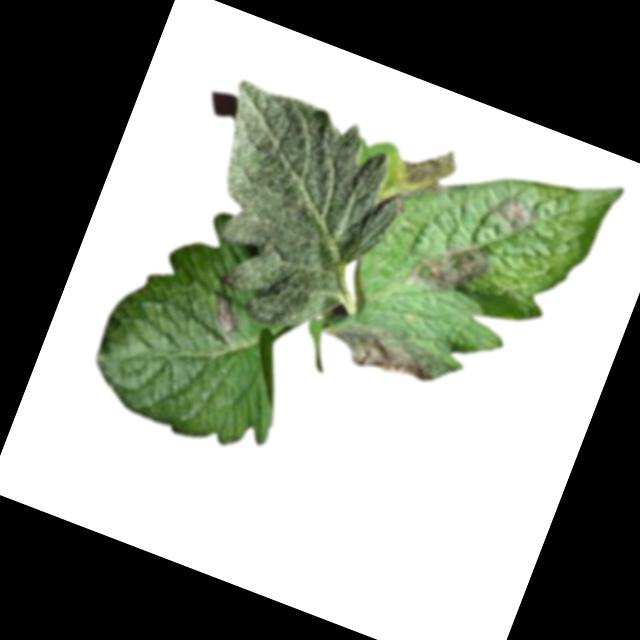Late_blight: (319, 308, 457, 398), (399, 224, 494, 314), (383, 134, 461, 220), (486, 189, 548, 243), (209, 297, 249, 340)
